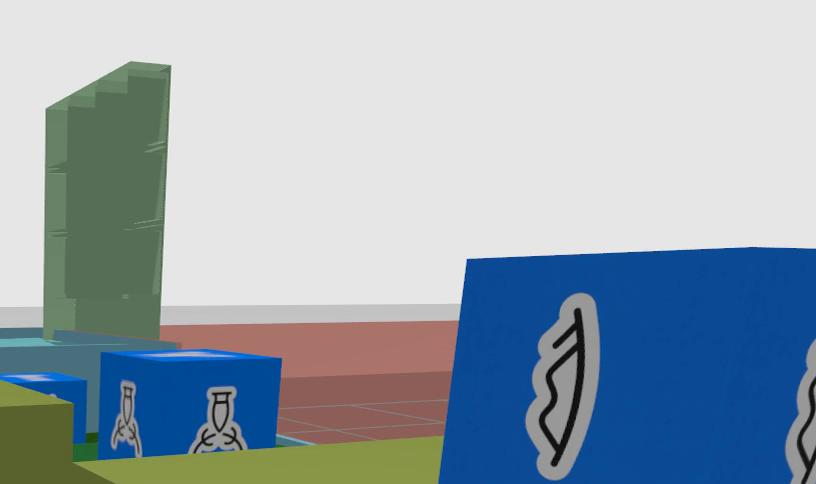KFS_REAL: (438, 248, 815, 484), (95, 349, 281, 459), (524, 292, 599, 480), (785, 341, 815, 484), (188, 387, 247, 451), (110, 381, 142, 456)
